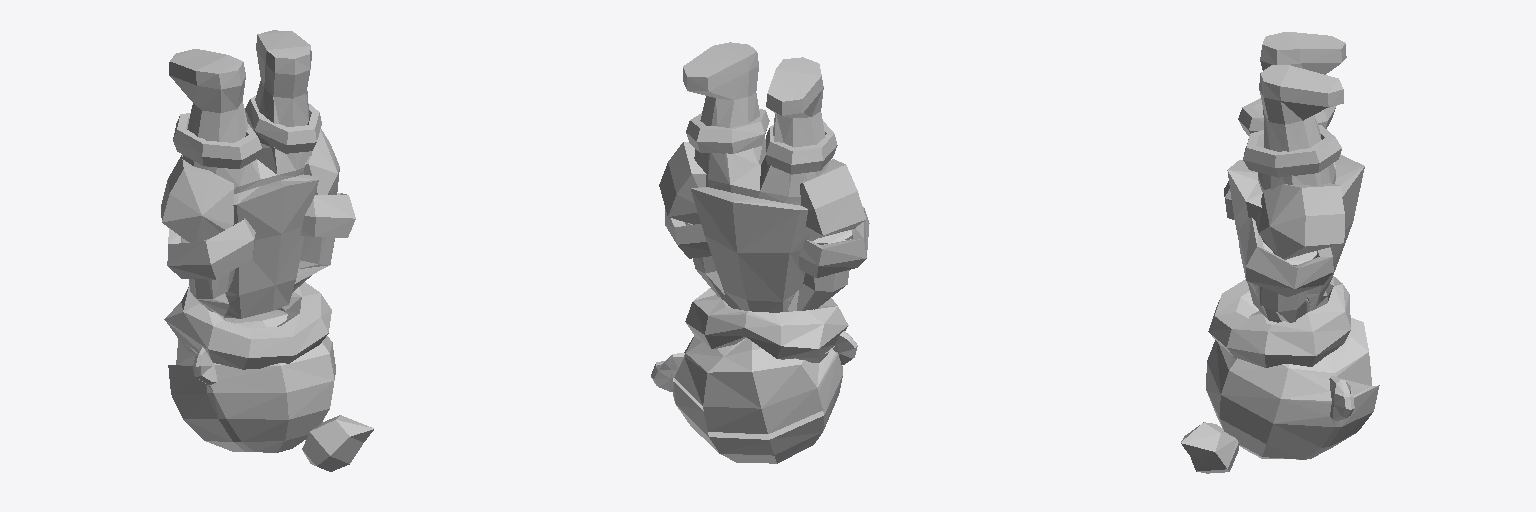
Rendered from eikastanding_000196.obj.
3 views of the same model, side by side, from view 1: azimuth 30°, elevation 25°; view 2: azimuth 150°, elevation 25°; view 3: azimuth 270°, elevation 25° (orthographic).
Parts seen in each view (by area): view 1: Cylinder; view 2: Cylinder; view 3: Cylinder.
Boxes of the visible parts, box(x1,y1,x2,y2) form: Cylinder: box(161, 30, 373, 471); Cylinder: box(651, 42, 869, 463); Cylinder: box(1181, 32, 1379, 473).
Bounding box in the file's own units: 26.05 × 51.39 × 23.31.